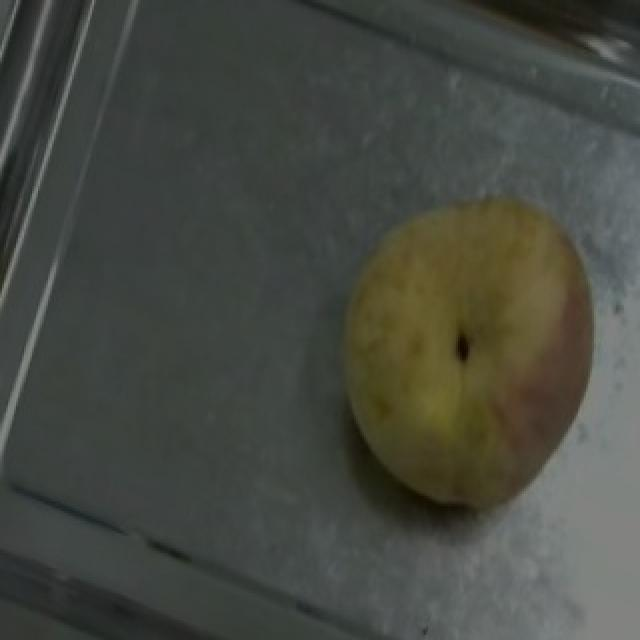Fruit: (290, 154, 624, 546)
